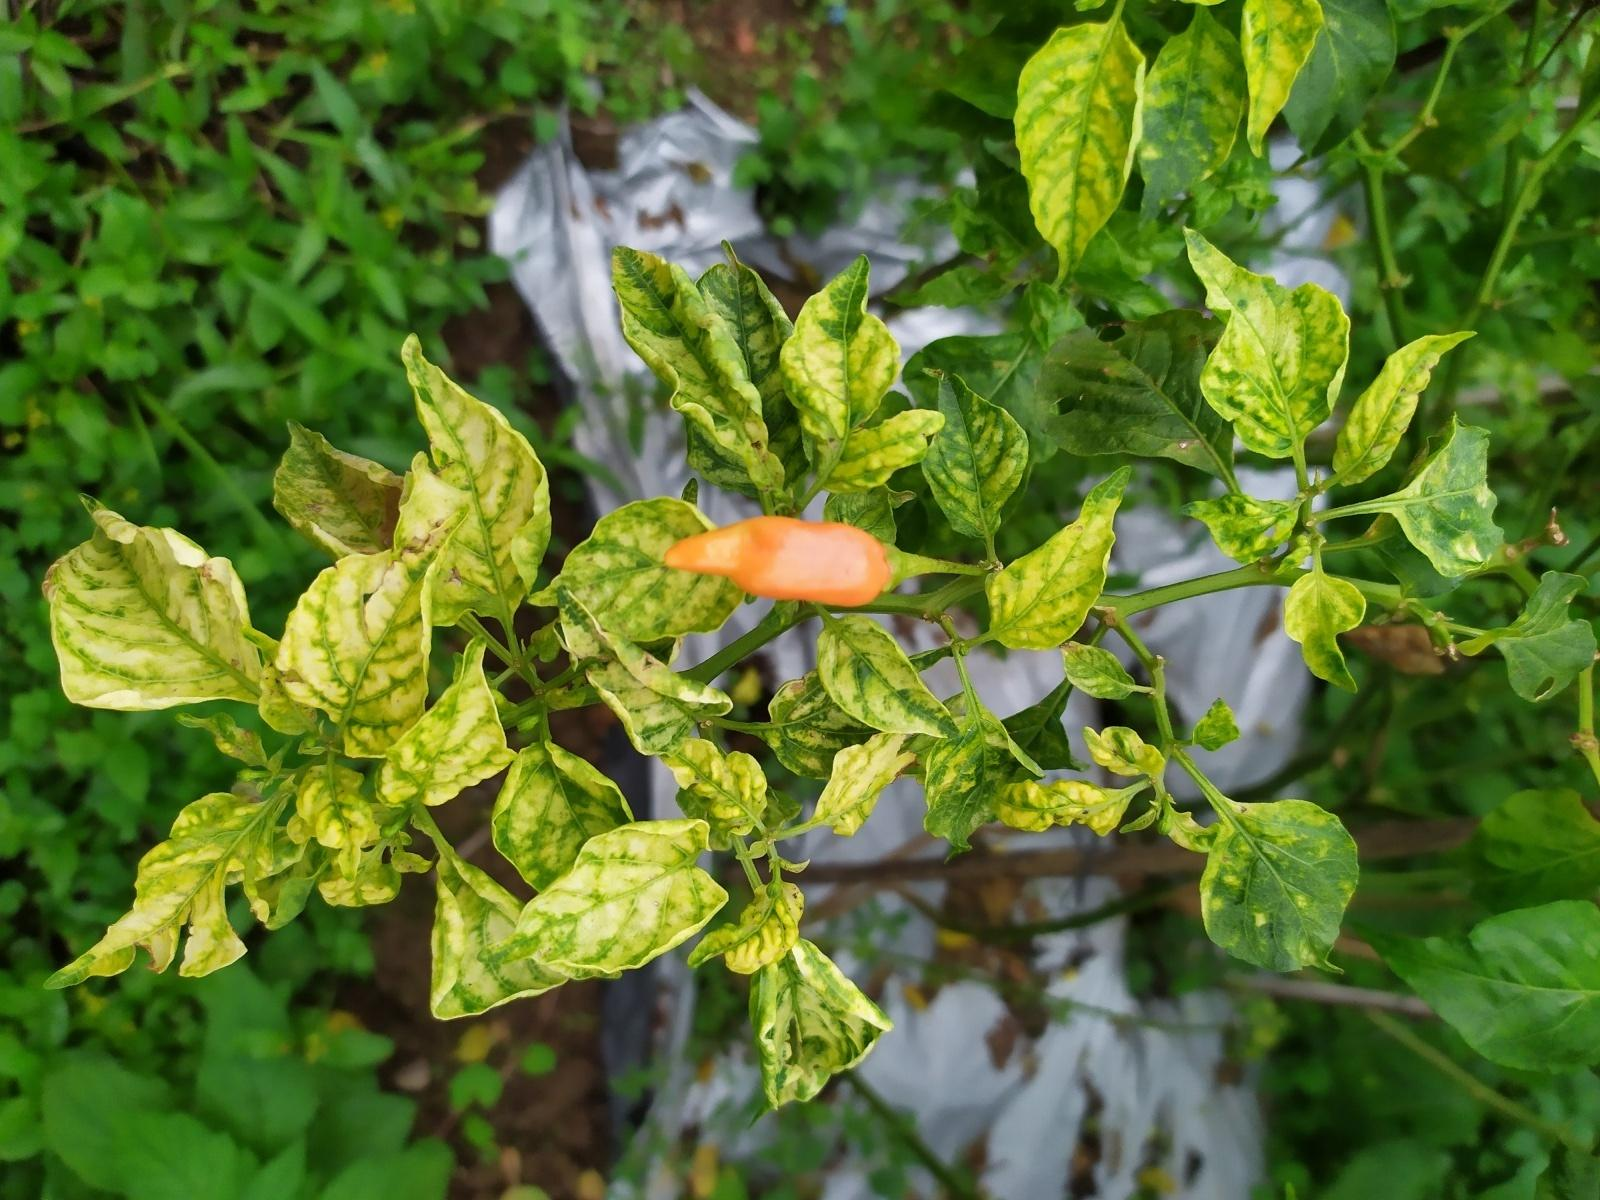cabai_normal: (661, 516, 889, 608)
